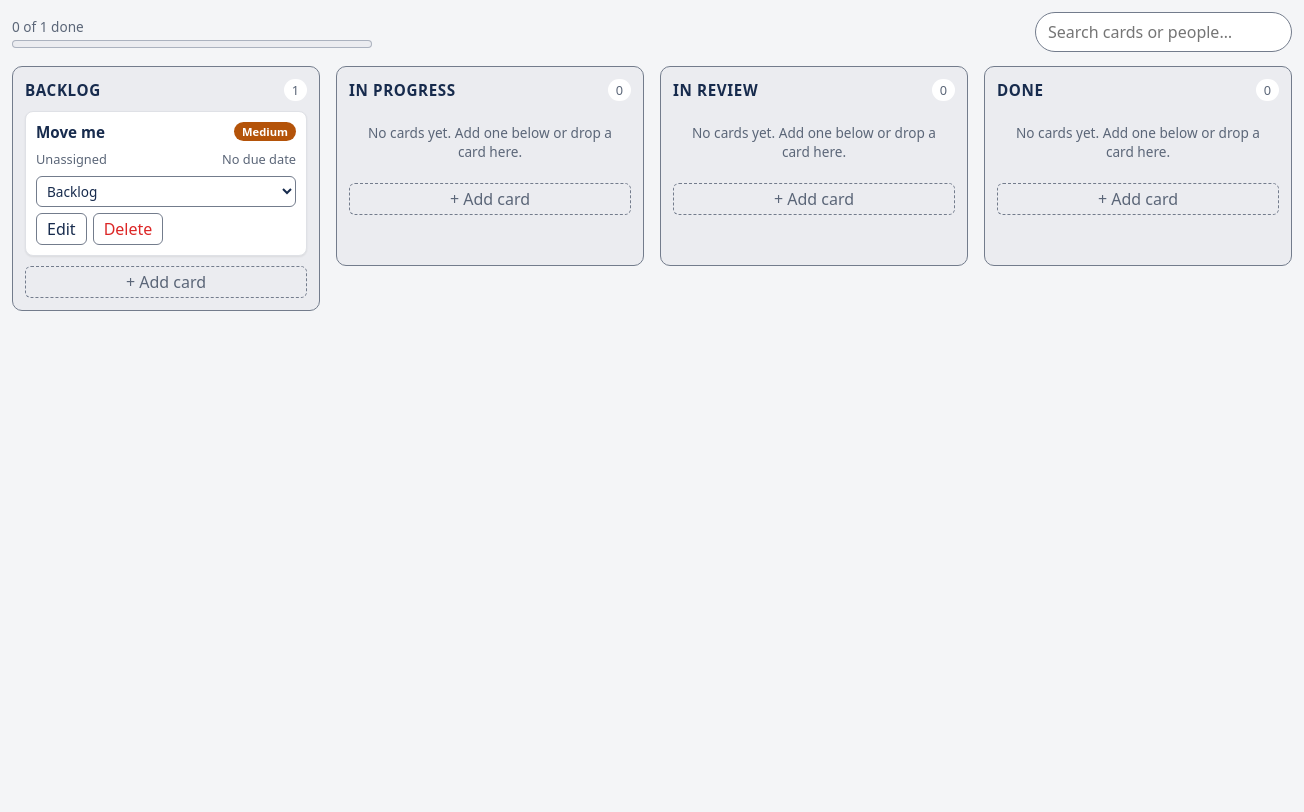
it: moving a card › moves it with the column menu only after pressing Move
Select "In Progress" in the dropdown named "Column for “Move me”": (166, 192) [36, 176, 296, 207]
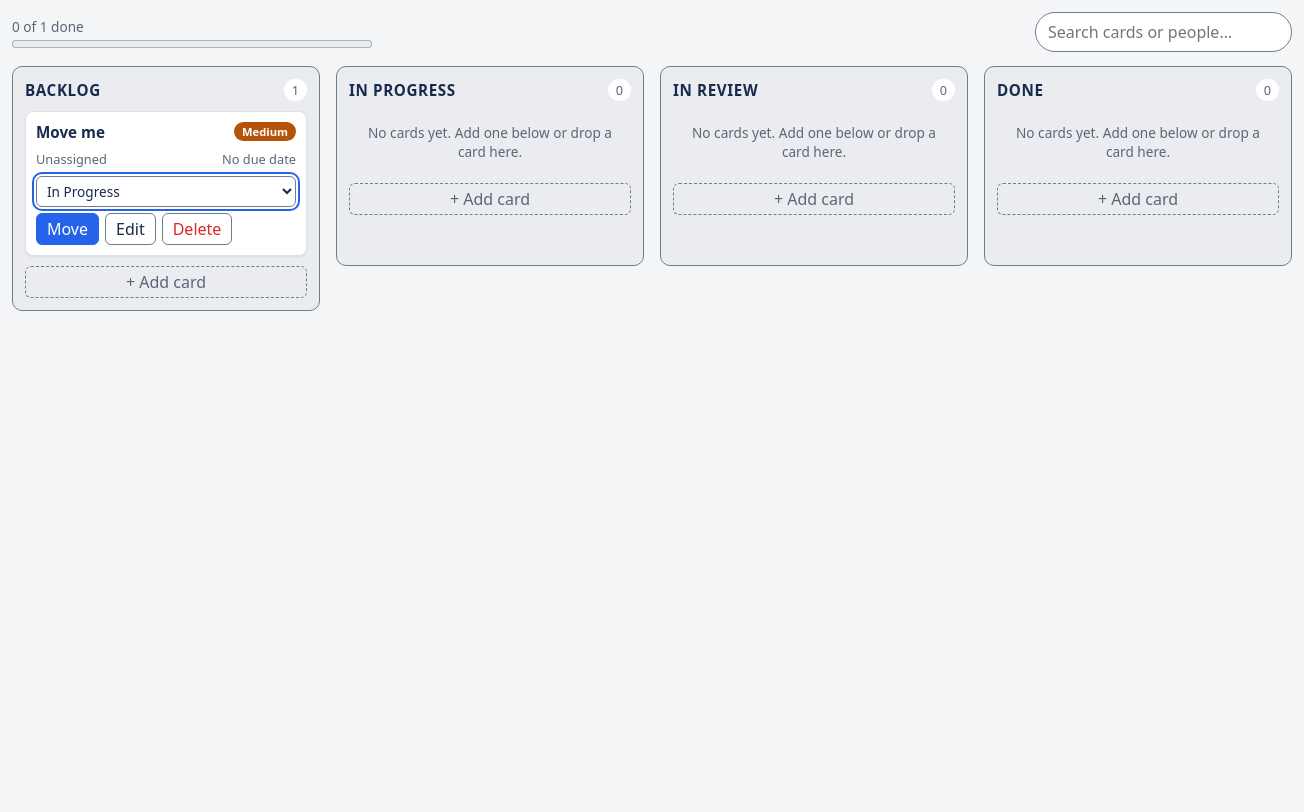
Expected: the heading "Move me" is shown, [36, 122, 105, 142]
Click the button with aria-label "Move “Move me” to In Progress": (68, 229) [36, 213, 99, 245]
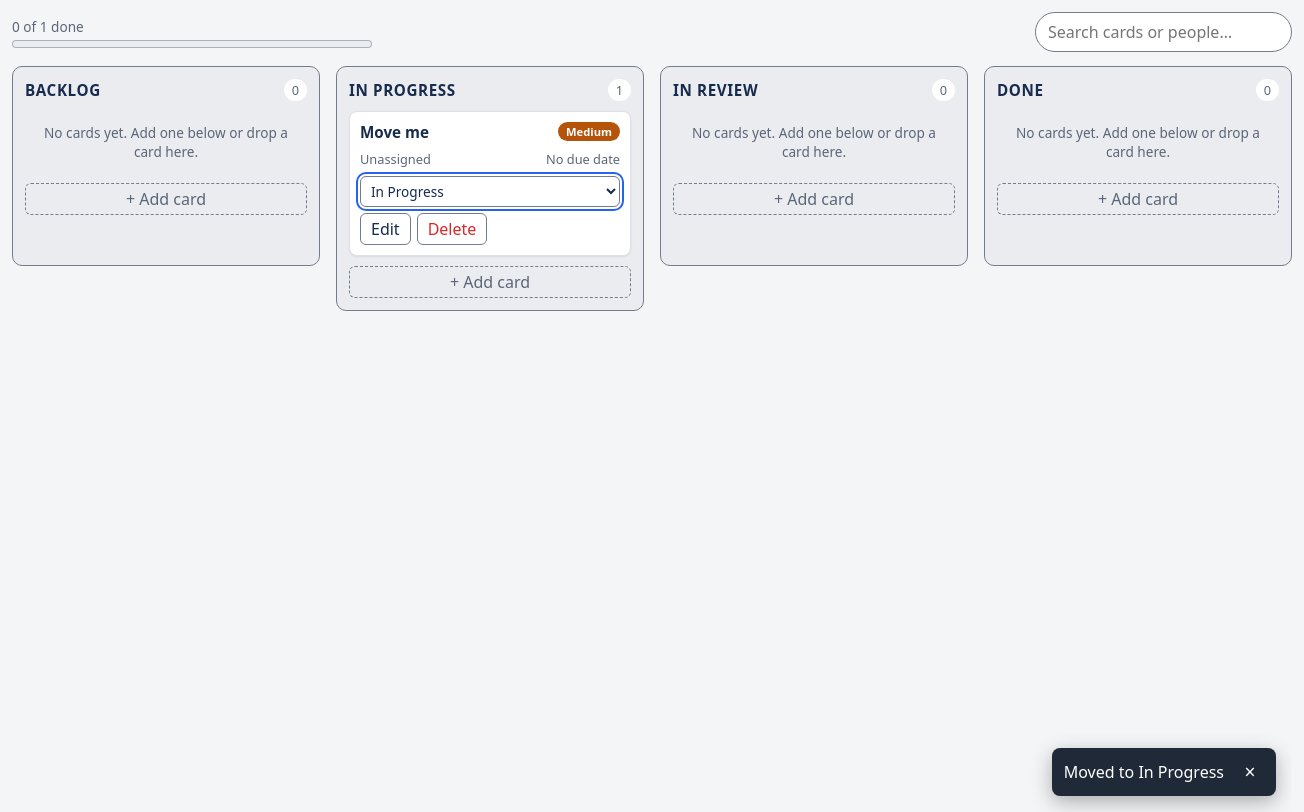
Expected: the heading "Move me" is shown, [360, 122, 429, 142]
Result: the text "Moved to In Progress" is shown at [1064, 761, 1224, 783]
